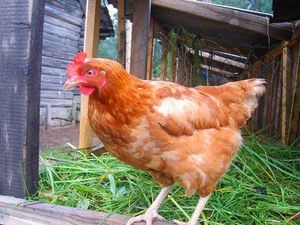chicken: (64, 50, 267, 225)
